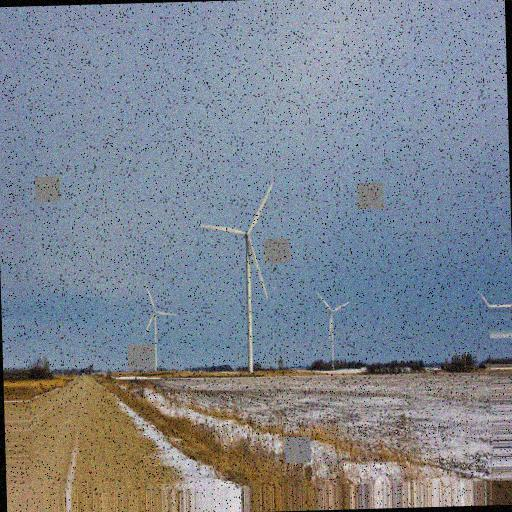wind turbine: (197, 179, 275, 371), (140, 286, 176, 371), (314, 288, 351, 369)
